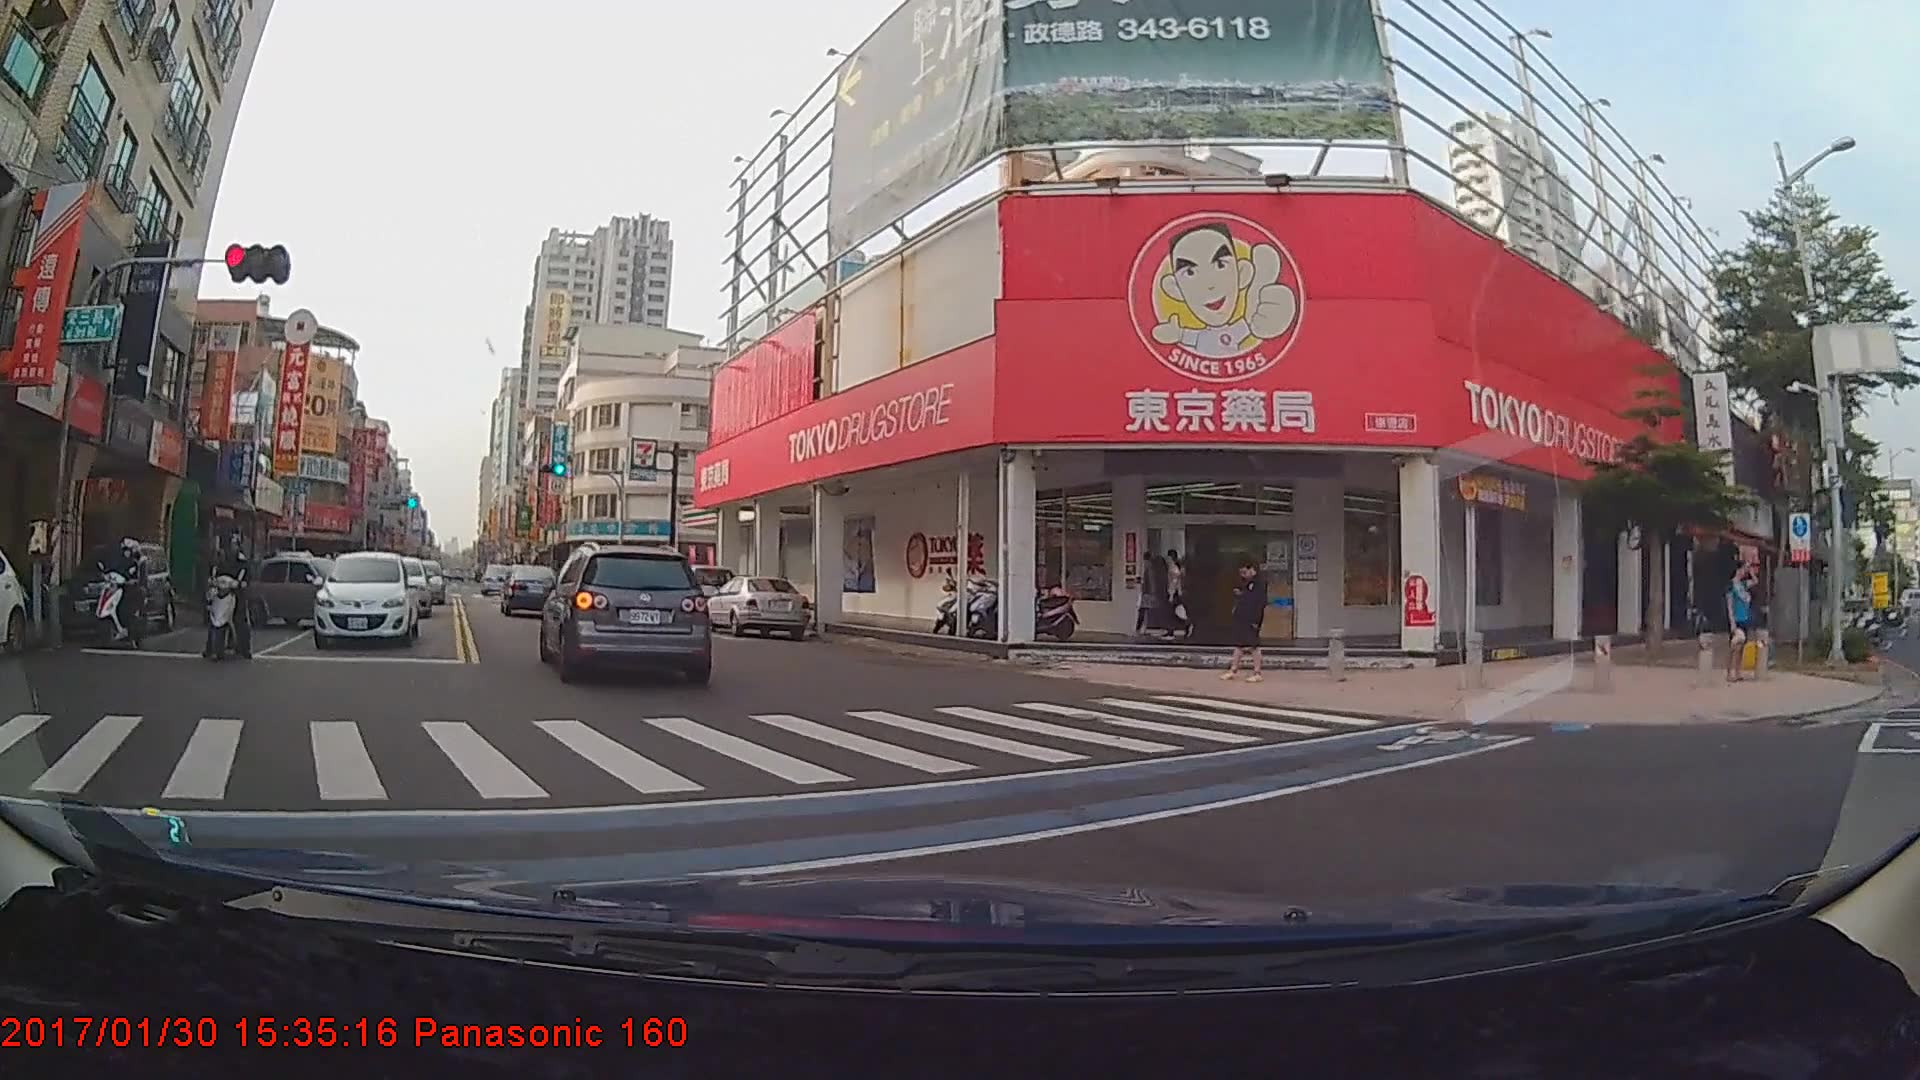pedestrian: (1219, 556, 1272, 681), (1722, 558, 1762, 684), (1133, 552, 1175, 636), (1164, 546, 1193, 641)
rider: (81, 551, 160, 664), (200, 537, 261, 665)
vehicle: (540, 547, 711, 682), (47, 545, 176, 650), (312, 562, 417, 659), (247, 559, 363, 630), (703, 574, 811, 639), (501, 566, 554, 617), (396, 561, 444, 610)
